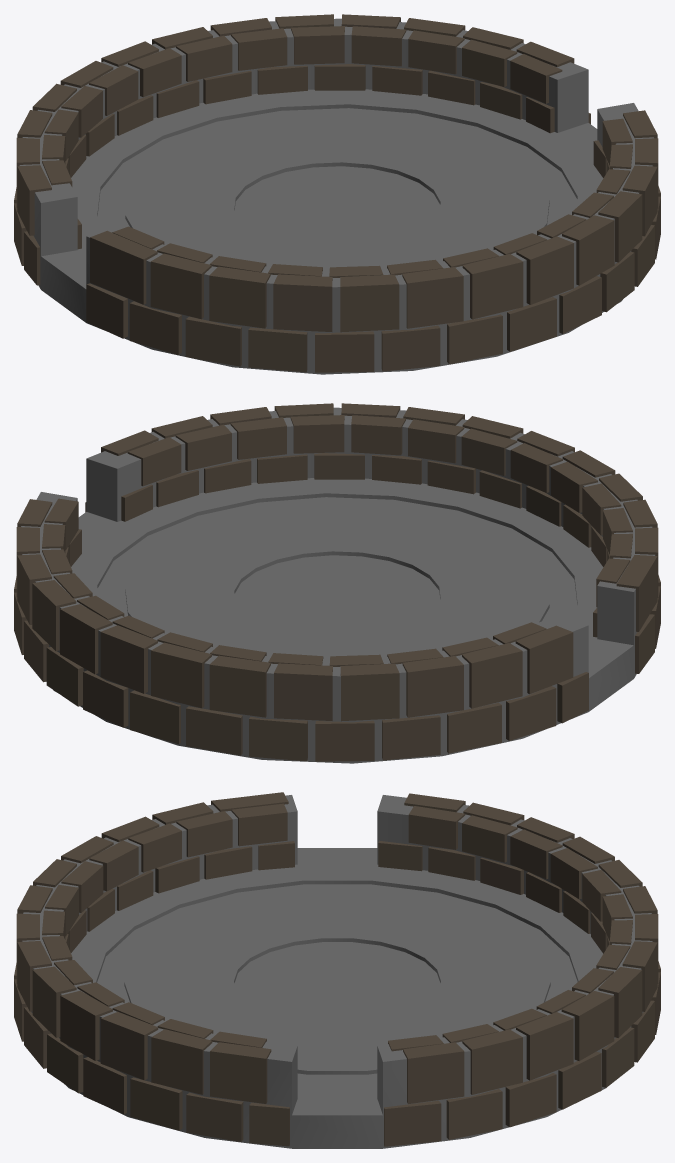
Rendered from mesh_colliseum.fbx.
The picture shows the model from 3 angles, top to bottom: view 1: azimuth 30°, elevation 25°; view 2: azimuth 150°, elevation 25°; view 3: azimuth 270°, elevation 25°; orthographic projection.
Parts seen in each view (by area): view 1: Colliseum; view 2: Colliseum; view 3: Colliseum.
Part boxes in pixels (bbox=[...]): Colliseum: bbox=[14, 14, 660, 374]; Colliseum: bbox=[14, 403, 660, 763]; Colliseum: bbox=[14, 792, 660, 1148].
Size of the model in its own units: 1000 by 154 by 1013.
